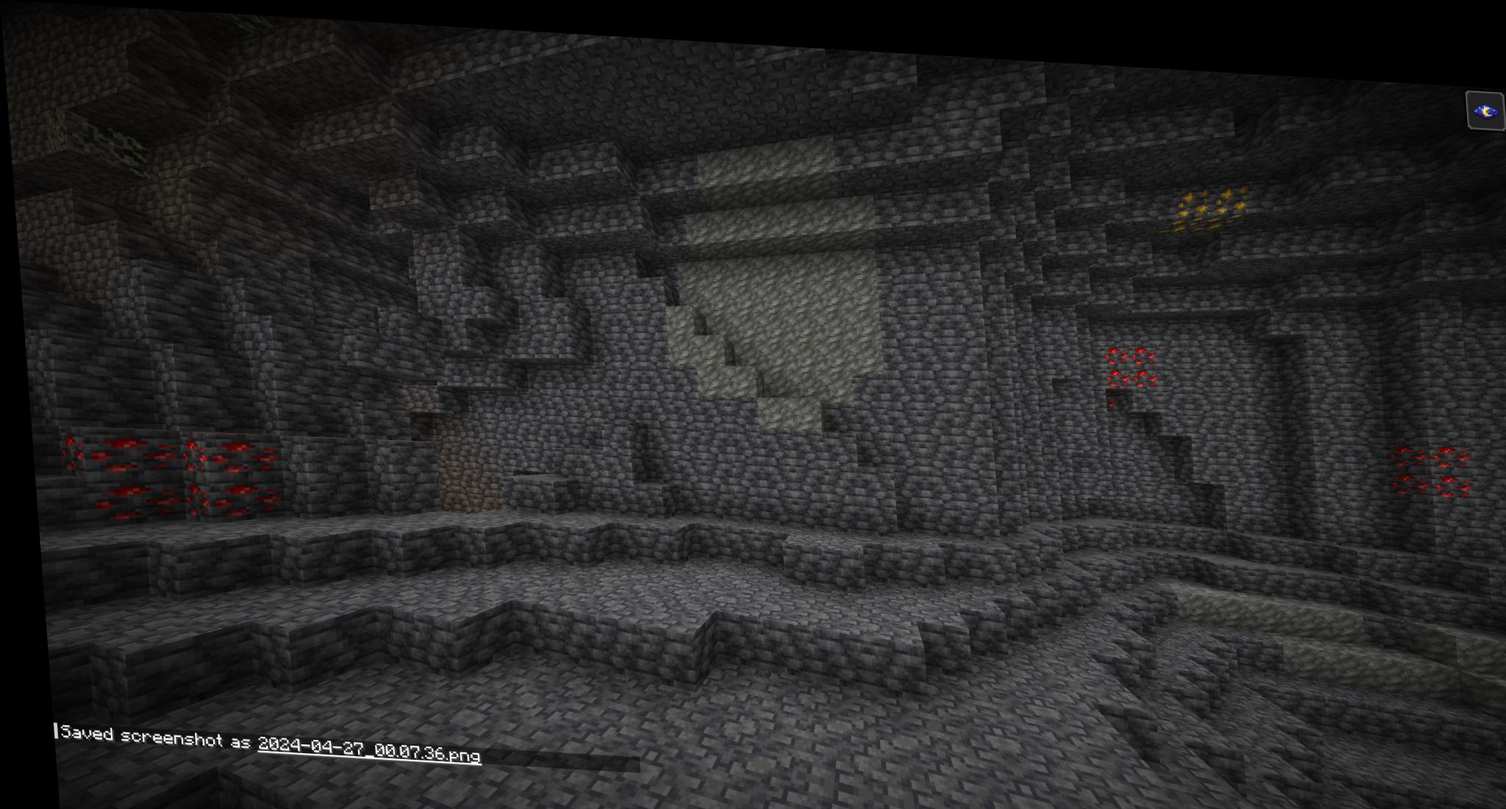gold ore: (1159, 165, 1254, 220)
redstone ore: (1380, 417, 1463, 488), (84, 469, 174, 525), (79, 427, 178, 476), (1091, 324, 1155, 397), (203, 471, 274, 521), (206, 429, 274, 477), (53, 428, 85, 475), (172, 480, 206, 523), (171, 435, 202, 476)
